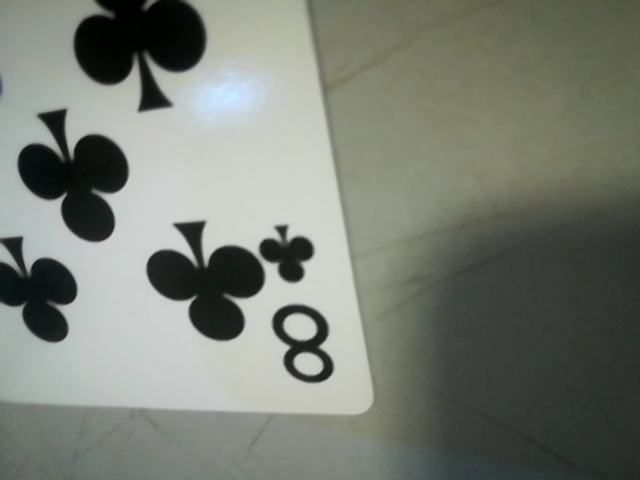mh 8: (251, 213, 356, 397)
